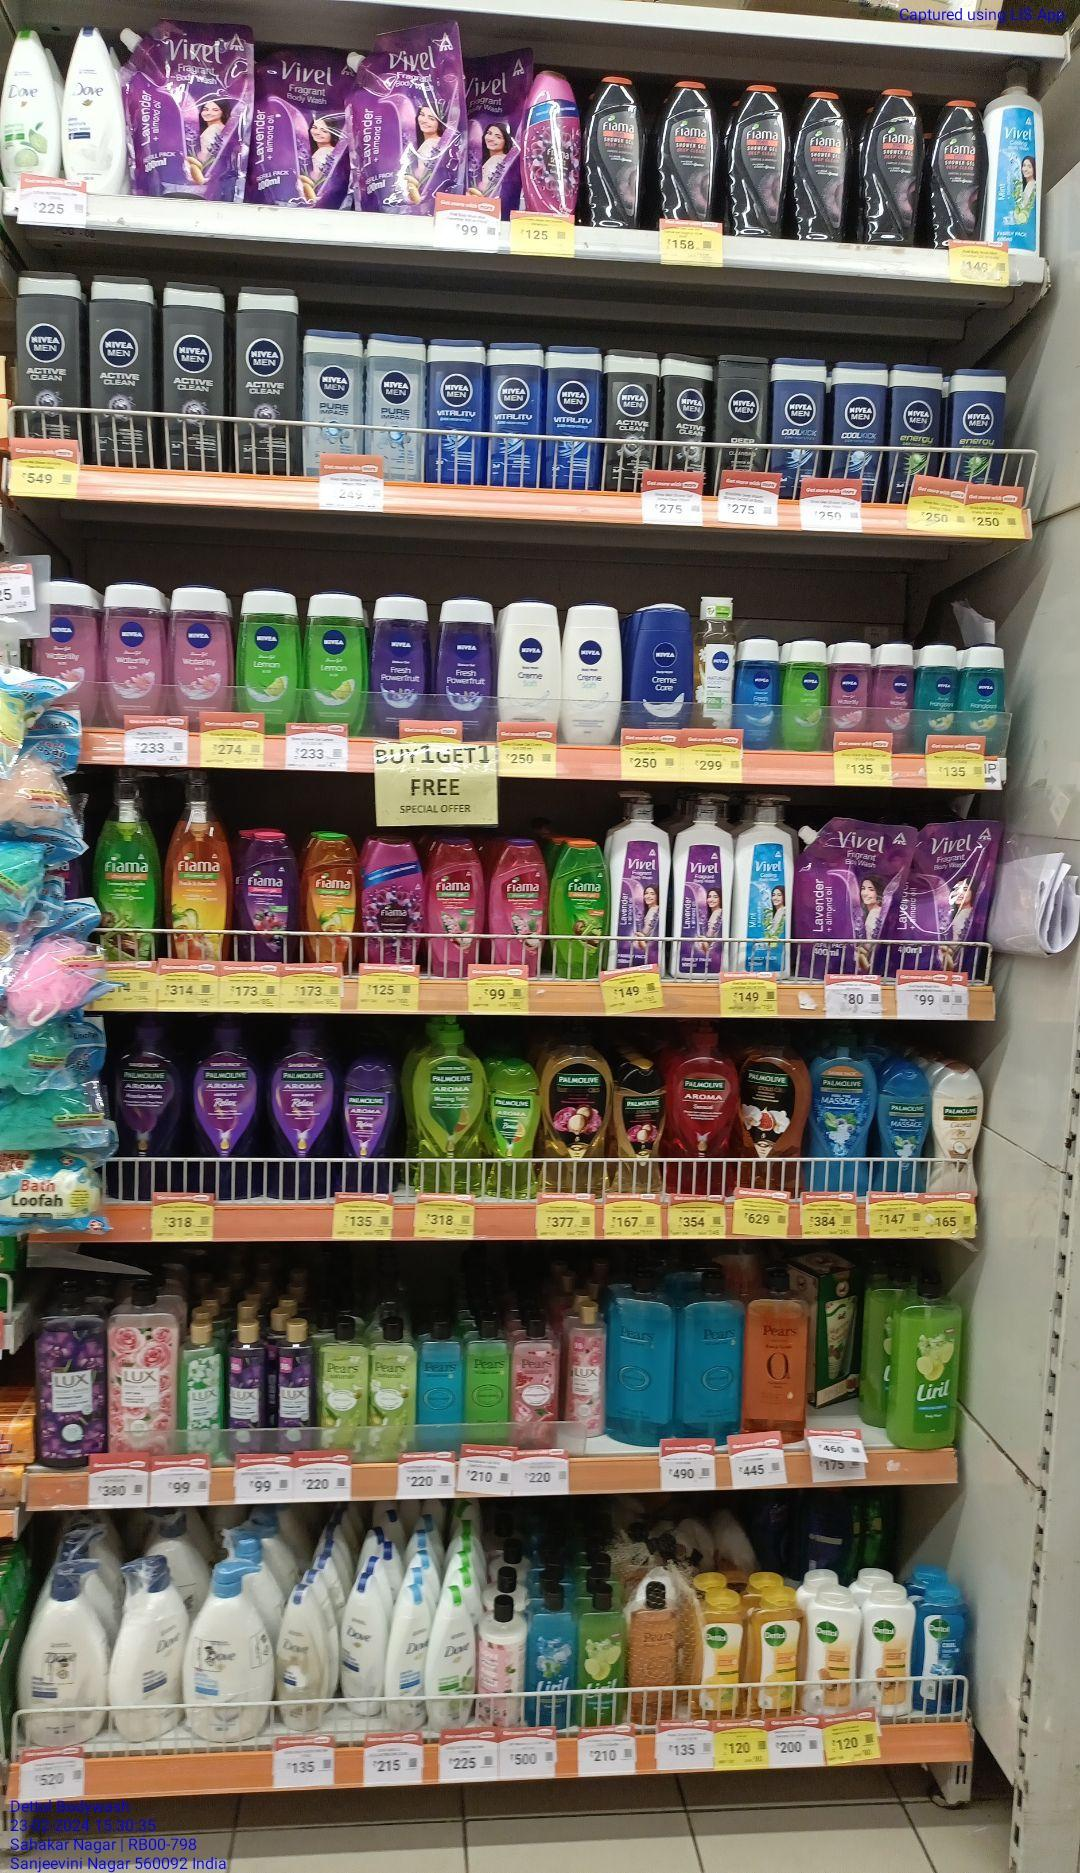Dettol_Bodywash_Cool: (913, 1580, 968, 1711)
Dettol_Bodywash_Refresh: (750, 1589, 802, 1716), (696, 1589, 744, 1721)
Dettol_Nourish_Body_Wash_250ML: (807, 1589, 859, 1715), (864, 1587, 910, 1712)
Dove_Deep_Moisture_Body_Wash_250ML: (60, 19, 126, 192), (337, 1581, 383, 1716)
Dove_Gentle_Exfoliating_Body_Wash_250ML: (386, 1587, 428, 1729)
Dove_Refreshing_Body_Wash_250ML: (0, 23, 62, 184), (431, 1585, 474, 1729)
Fiama_Shower_Gel_Lemongrass_and_Jojoba_250ML: (550, 839, 608, 980)
Fiama_Shower_Gel_Patchouli_and_Macadamia_250ML: (426, 836, 485, 966), (489, 836, 548, 961)
Fiama_Shower_Gel_Peach_and_Avocado_250ML: (302, 828, 359, 961)
Liril_Cooling_Mint_Body_Wash_250ML: (527, 1585, 573, 1728)
Liril_Lime_and_Tea_Tree_Oil_Body_Wash_250ML: (894, 1257, 960, 1446), (576, 1587, 624, 1725)
Lux_Black_Orchid_Scent_and_Juniper_Oil_Body_Wash_245ML: (276, 1320, 315, 1451), (229, 1317, 265, 1456)
Lux_Body_Wash_Skin_Detox_Freesia_Scent_and_Alove_Vera_245ML: (184, 1325, 222, 1460)
Nivea_Creme_Care_Body_Wash_250ML: (631, 605, 690, 726)
Nivea_Creme_Soft_Body_Wash_250ML: (504, 598, 564, 729), (566, 602, 618, 746)
Nivea_Shower_Gel_Fresh_Powerfruit_250ML: (436, 594, 496, 718), (374, 593, 432, 718)
Nivea_Shower_Gel_Lemon_and_Oil_250ML: (303, 597, 370, 728), (239, 587, 302, 714)
Nivea_Shower_Gel_Waterlily_and_Oil_250ML: (102, 584, 167, 720), (168, 587, 237, 718)
Palmolive_Aroma_Moments_Feel_The_Massage_Shower_Gel_250ML: (877, 1066, 927, 1191)
Palmolive_Aroma_Morning_Tonic_Shower_Gel_250ML: (494, 1064, 540, 1196)
Palmolive_Aroma_Relax_250ML: (339, 1059, 399, 1191)
Palmolive_Coconut_Joy_Exfoliating_Body_Wash_250ML: (930, 1063, 984, 1196)
Palmolive_Luminous_Oils_Invigorating_Macadamia_Oil_With_Peony_250ML: (616, 1057, 665, 1194)
Pears_Naturale_Aloe_Vera_Body_Wash_250ML: (364, 1310, 417, 1454), (318, 1319, 365, 1452)
Pears_Pure_Glycerin_and_Lemon_Flower_Extracts_Body_Wash_250ML: (464, 1304, 512, 1439)
Pears_Pure_Glycerin_and_Mint_Extracts_Body_Wash_250ML: (418, 1319, 464, 1452)
